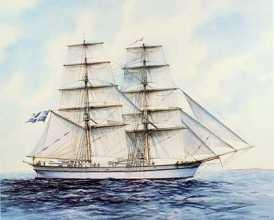fanchuan: (15, 31, 255, 181)
